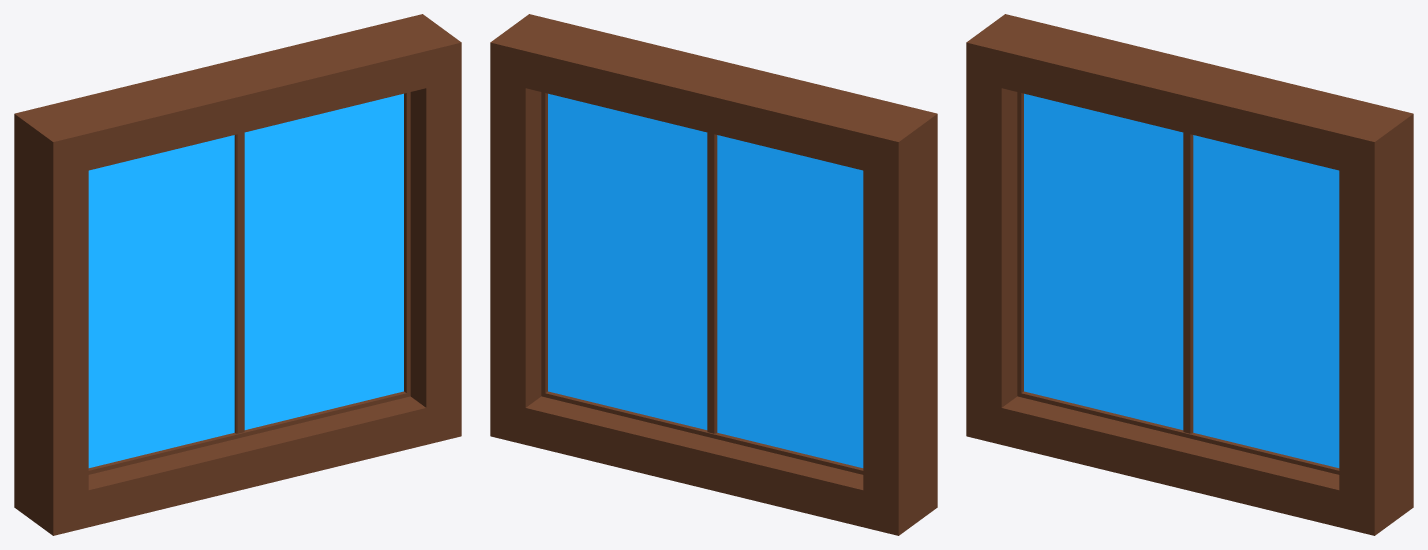
File: janela_quadrada_folhas_madeira.glb
3 views of the same model, side by side, from view 1: azimuth 30°, elevation 25°; view 2: azimuth 150°, elevation 25°; view 3: azimuth 330°, elevation 25° (orthographic).
Visible parts, largest first — view 1: janela_quadrada_folhas_madeira; view 2: janela_quadrada_folhas_madeira; view 3: janela_quadrada_folhas_madeira.
Part boxes in pixels (x1,y1,x2,y2): janela_quadrada_folhas_madeira: (14, 14, 461, 535); janela_quadrada_folhas_madeira: (490, 14, 937, 535); janela_quadrada_folhas_madeira: (966, 14, 1413, 535).
Size of the model in its own units: 1.27 by 1.17 by 0.21.
